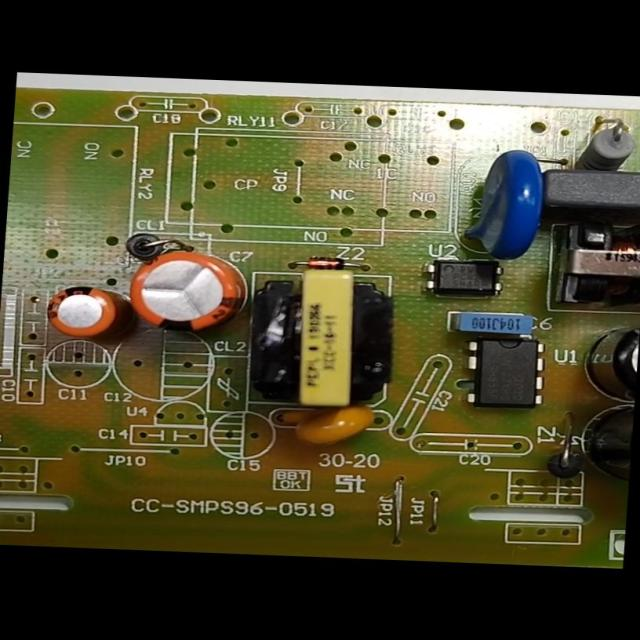Cap1: (117, 236, 258, 342)
Cap2: (36, 280, 138, 346)
Cap3: (572, 309, 639, 409)
Cap4: (559, 392, 634, 489)
MOSFET: (454, 329, 555, 414)
Mov: (446, 144, 554, 268)
Resistor: (569, 113, 639, 174)
Transformer: (236, 262, 400, 418), (545, 210, 639, 310)
